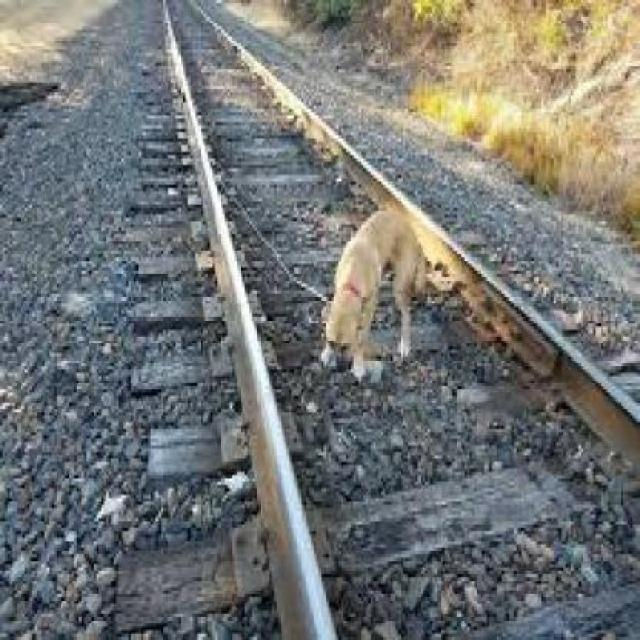danger: (286, 180, 454, 394)
rail: (111, 8, 635, 640)
